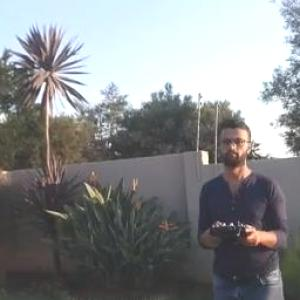follow: (191, 112, 295, 299)
